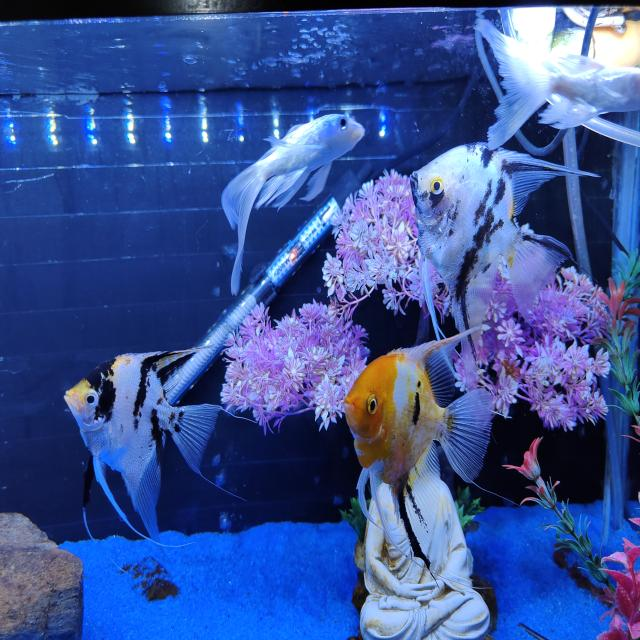Fish: (410, 143, 596, 337), (344, 328, 492, 534), (65, 350, 223, 541), (222, 114, 364, 294), (344, 328, 492, 489), (476, 19, 639, 149)
